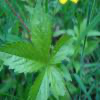Strawberry leaf: (0, 41, 49, 75), (31, 0, 54, 62), (49, 31, 75, 67), (29, 65, 51, 99)
